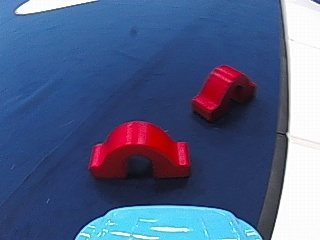bridge: (83, 115, 191, 182), (190, 63, 256, 122)
